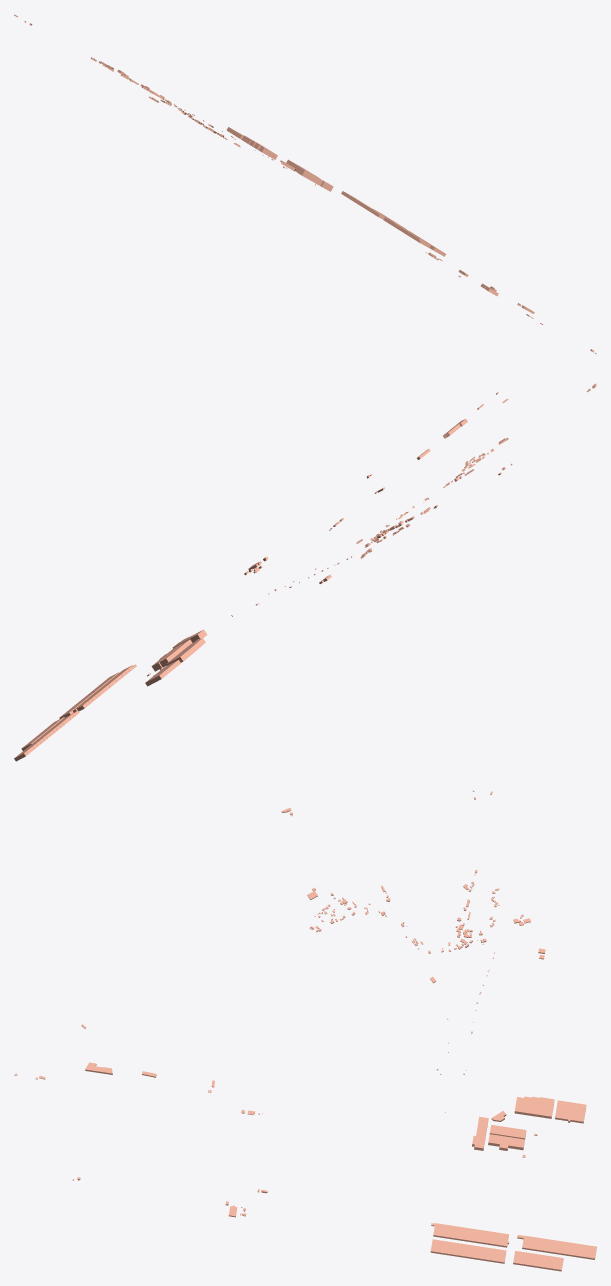
3 renders of one model, top to bottom at view 1: azimuth 30°, elevation 25°; view 2: azimuth 150°, elevation 25°; view 3: azimuth 270°, elevation 25°, orthographic. The views are drawn at different scales.
Size of the model in its own units: 1796 by 1394 by 2446.
